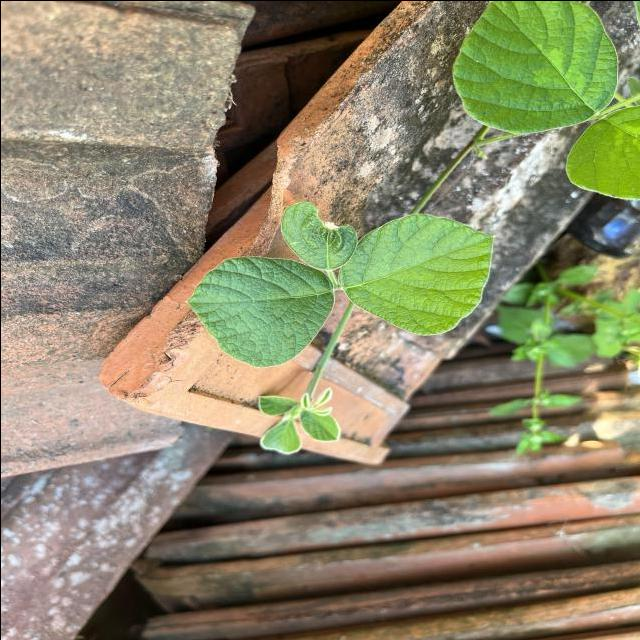Pseudarthria viscida: (179, 200, 496, 368)
